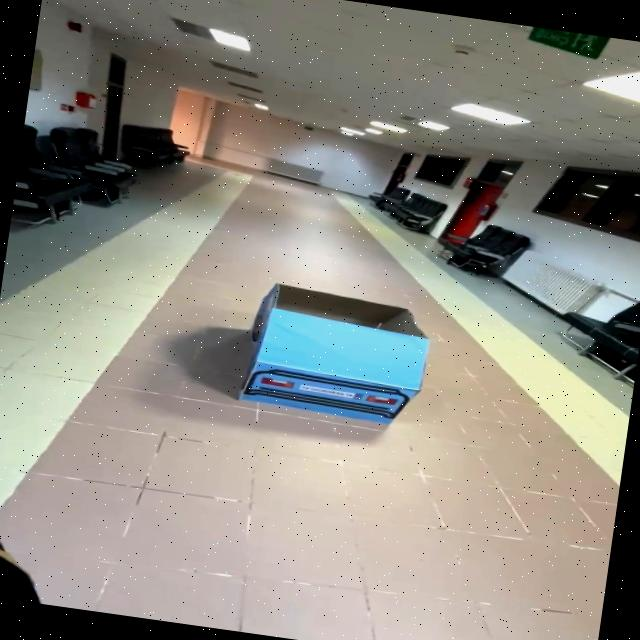blue_car: (203, 272, 464, 453)
